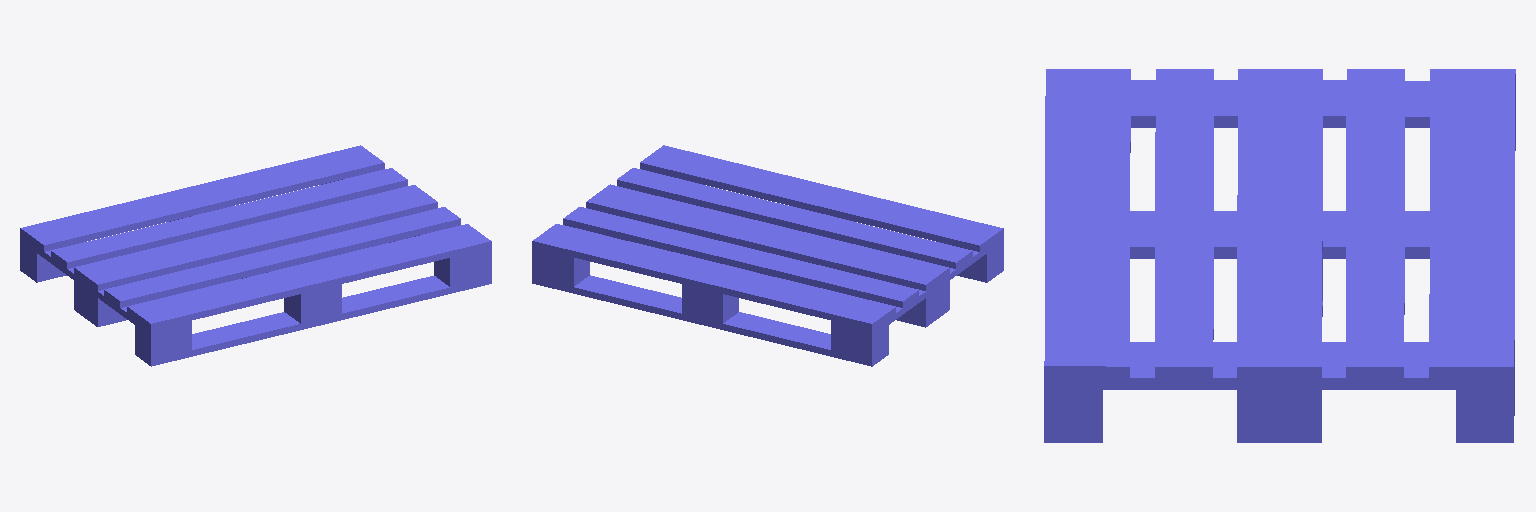
robot.urdf — pallet1_gazebo:
<?xml version="1.0" encoding="utf-8"?>
<!-- This URDF was automatically created by SolidWorks to URDF Exporter! Originally created by [author] ([email redacted]) 
     Commit Version: 1.5.1-0-g916b5db  Build Version: 1.5.7152.31018
     For more information, please see http://wiki.ros.org/sw_urdf_exporter -->
<robot name="pallet1_gazebo">

	<link name="world" />

	<joint name="fixed1" type="fixed">
		<parent link="world"/>
		<child link="pallet_1"/>
		<origin xyz="0.666 1.2 0.19" rpy="0.0 0.0 3.14"/>
	</joint>

	<link name="pallet_1">
		<inertial>
			<origin xyz="0.60 0.40 0.08" rpy="0 0 0" />
			<mass value="40" />
			<inertia ixx="7.5972" ixy="0" ixz="0" iyy="0.99673" iyz="0" izz="8.1168" />
		</inertial>
		<visual>
			<origin xyz="0.0 0.0 0.0" rpy="0 0 0" />
			<geometry>
				<mesh filename="package://demo_world/meshes/pallet.stl" />
			</geometry>
			<material name="white">
				<color rgba="0.5 0.5 1 1" />
			</material>
		</visual>
		<collision>
          <origin xyz="0.0 0.0 0.0" rpy="0.0 0.0 0.0"/>
          <geometry>
             <mesh filename="package://demo_world/meshes/collision_pallet.stl" />
          </geometry>
        </collision>
	</link>

</robot>

--- Render facts (derived) ---
Views: 3 orthographic renders of the robot side by side, from view 1: azimuth 30°, elevation 25°; view 2: azimuth 150°, elevation 25°; view 3: azimuth 270°, elevation 25°.
Robot: pallet1_gazebo — 2 links, 1 joints (1 fixed); root link world; default pose: every joint at zero.
Visible links, largest first — view 1: pallet_1; view 2: pallet_1; view 3: pallet_1.
Link boxes in pixels (box(x1,y1,x2,y2)): pallet_1: box(20, 145, 491, 366); pallet_1: box(532, 145, 1003, 366); pallet_1: box(1044, 69, 1515, 442).
Size in the robot's own frame: 1.21 by 0.8056 by 0.1447 metres.
1 mesh visuals loaded from 1 distinct referenced files (1 binary STL).